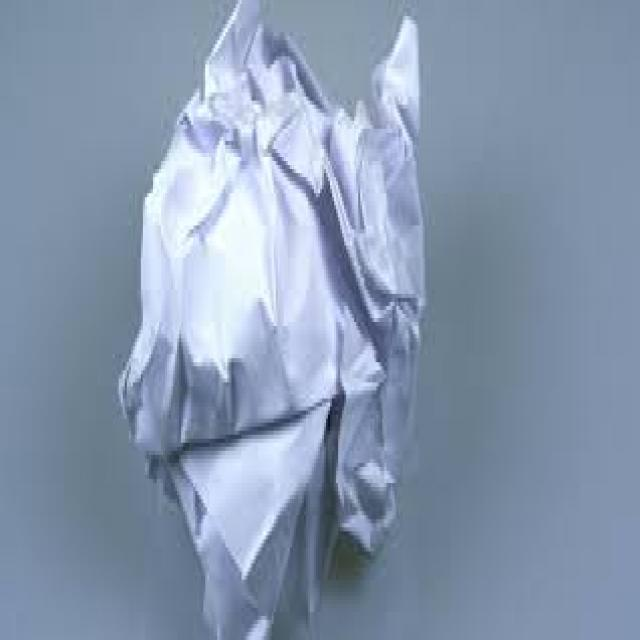Paper -Biodegradable-: (117, 6, 423, 640)
